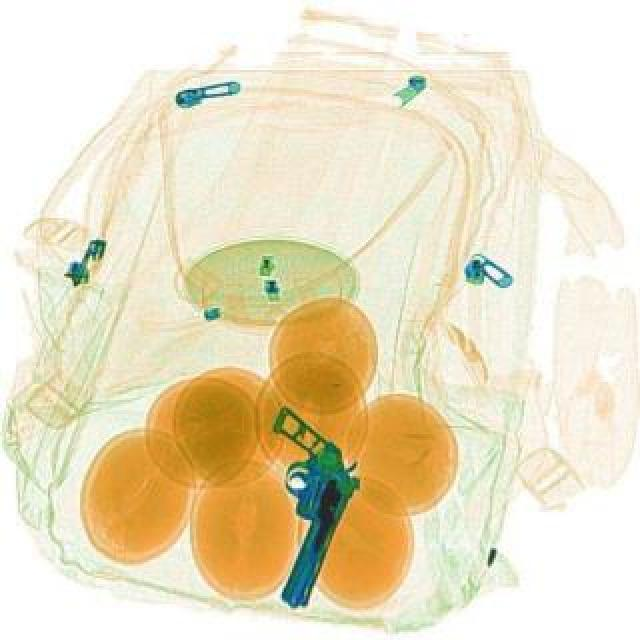gun: (210, 410, 382, 614)
